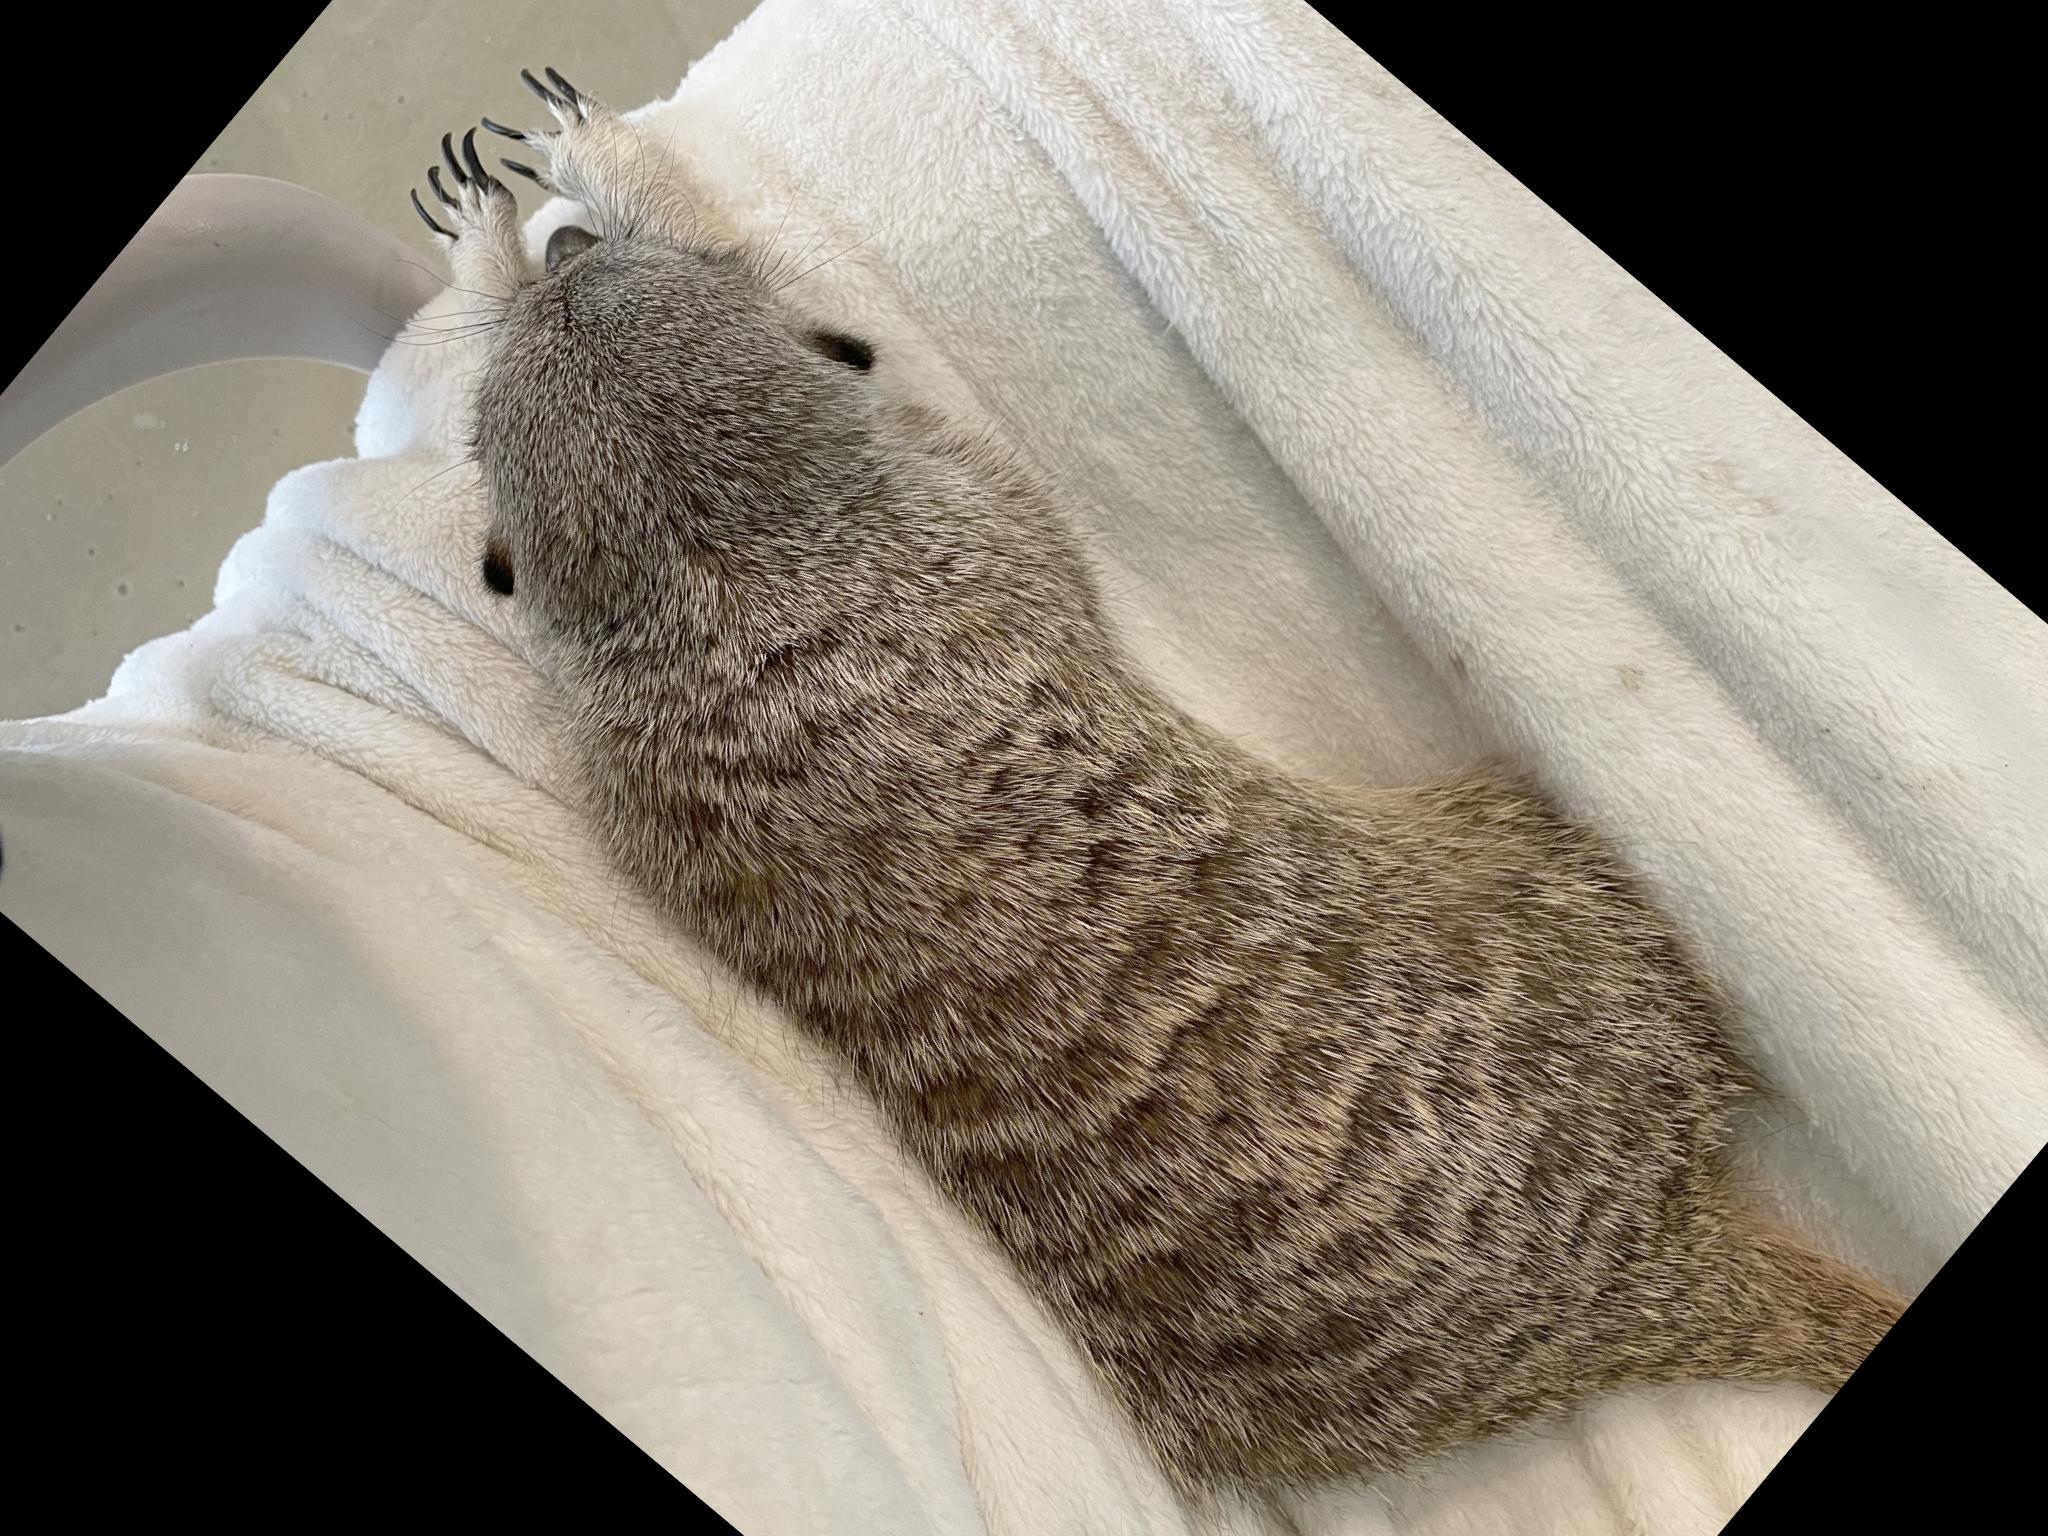meerkat: (474, 134, 2048, 1536)
